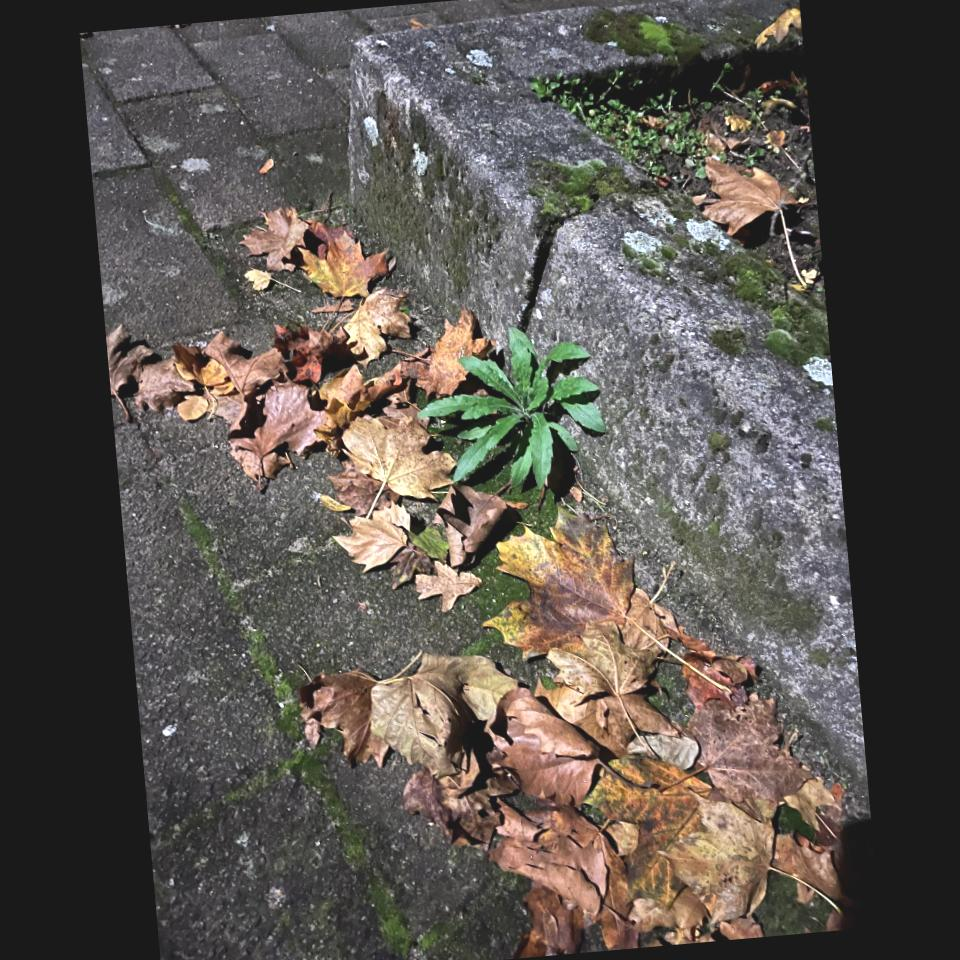weed: (186, 529, 427, 953), (421, 331, 602, 497)
